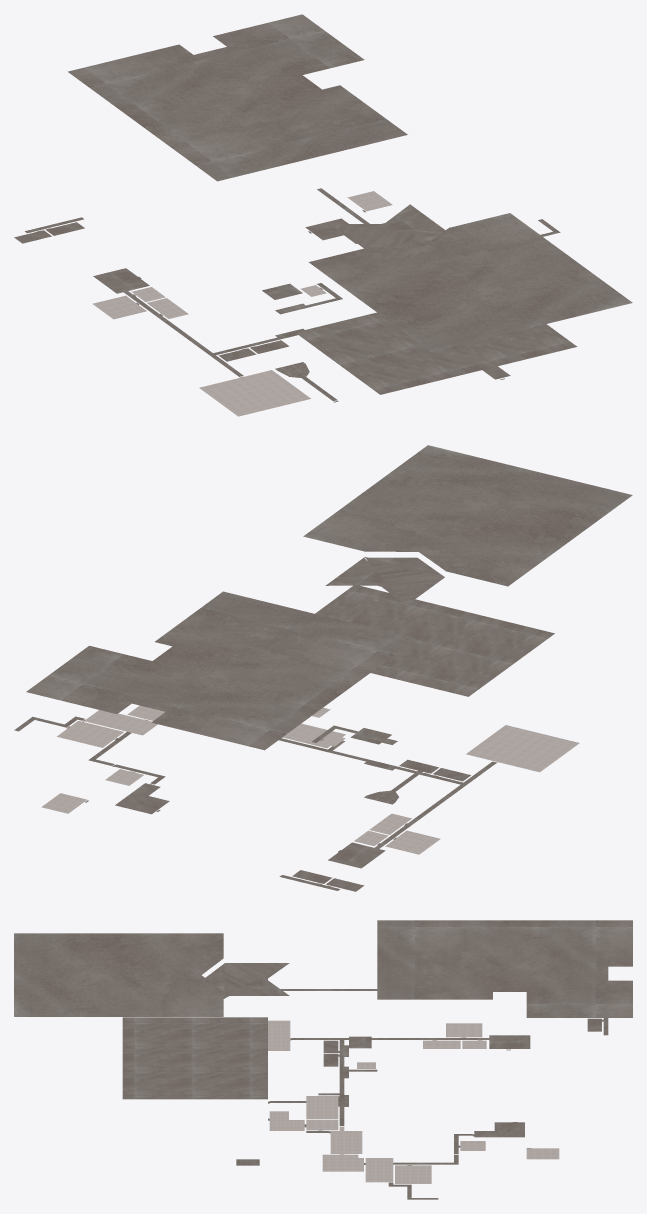
File: ceiling.fbx
3 renders of one model, top to bottom at view 1: azimuth 30°, elevation 25°; view 2: azimuth 150°, elevation 25°; view 3: azimuth 270°, elevation 25°, orthographic. The views are drawn at different scales.
Parts seen in each view (by area): view 1: ceiling; view 2: ceiling; view 3: ceiling.
Part boxes in pixels (box(x1,y1,x2,y2)): ceiling: box(14, 14, 632, 416); ceiling: box(14, 445, 632, 891); ceiling: box(14, 920, 632, 1199).
Size of the model in its own units: 18202 by 7527 by 26473.
